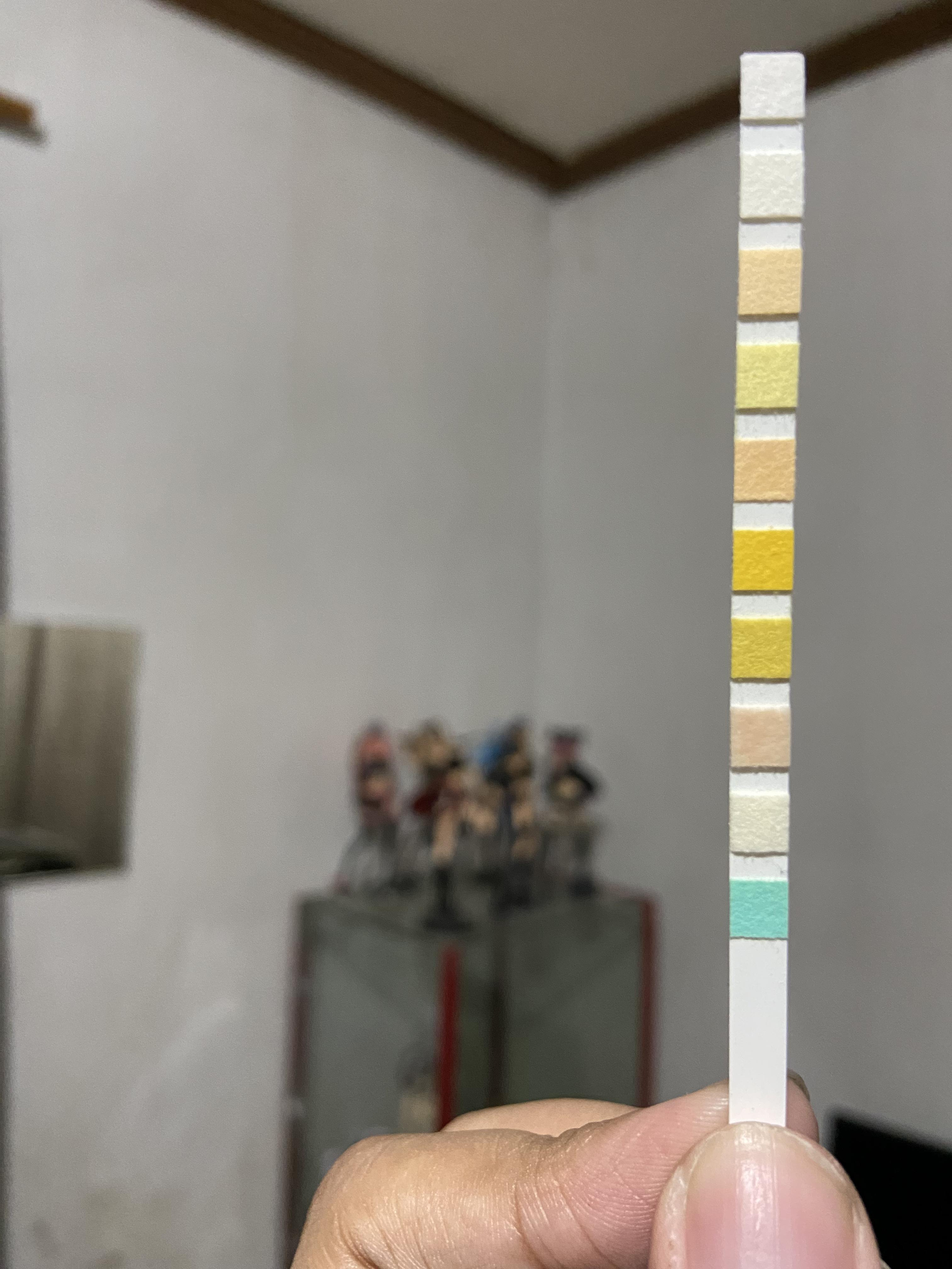Bilirubin: (731, 796, 790, 852)
Blood: (734, 532, 792, 590)
Glucose: (730, 882, 788, 938)
Ketone: (730, 709, 790, 766)
Leukocytes: (741, 57, 804, 118)
Nitrite: (741, 153, 803, 216)
Protein: (737, 345, 797, 406)
SpGravity: (732, 620, 791, 678)
Urobilinogen: (740, 252, 800, 313)
pH: (735, 442, 795, 500)
strip: (730, 52, 805, 1121)
